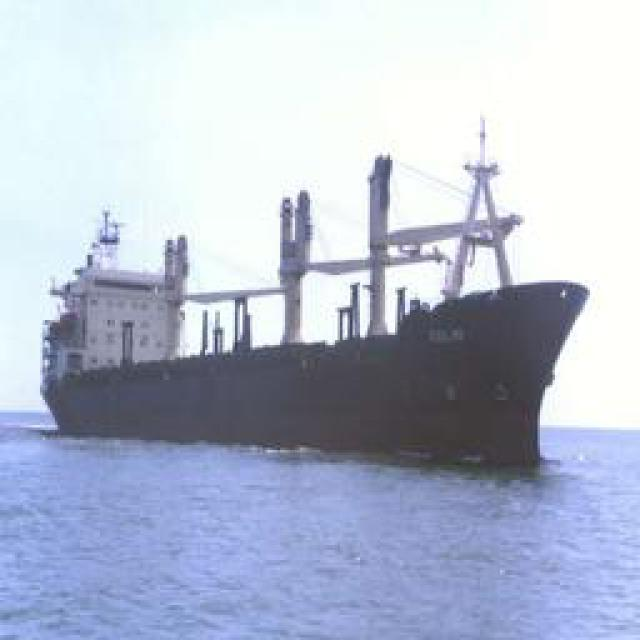Ship: (40, 234, 608, 464)
